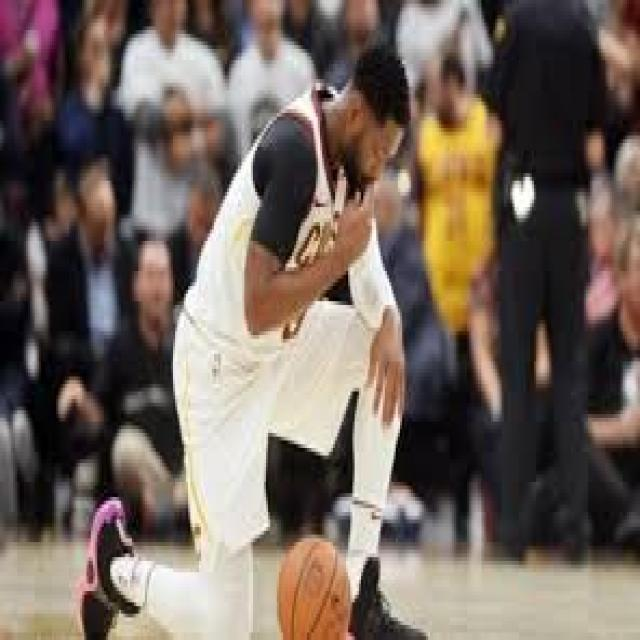10-: (0, 0, 636, 636)
